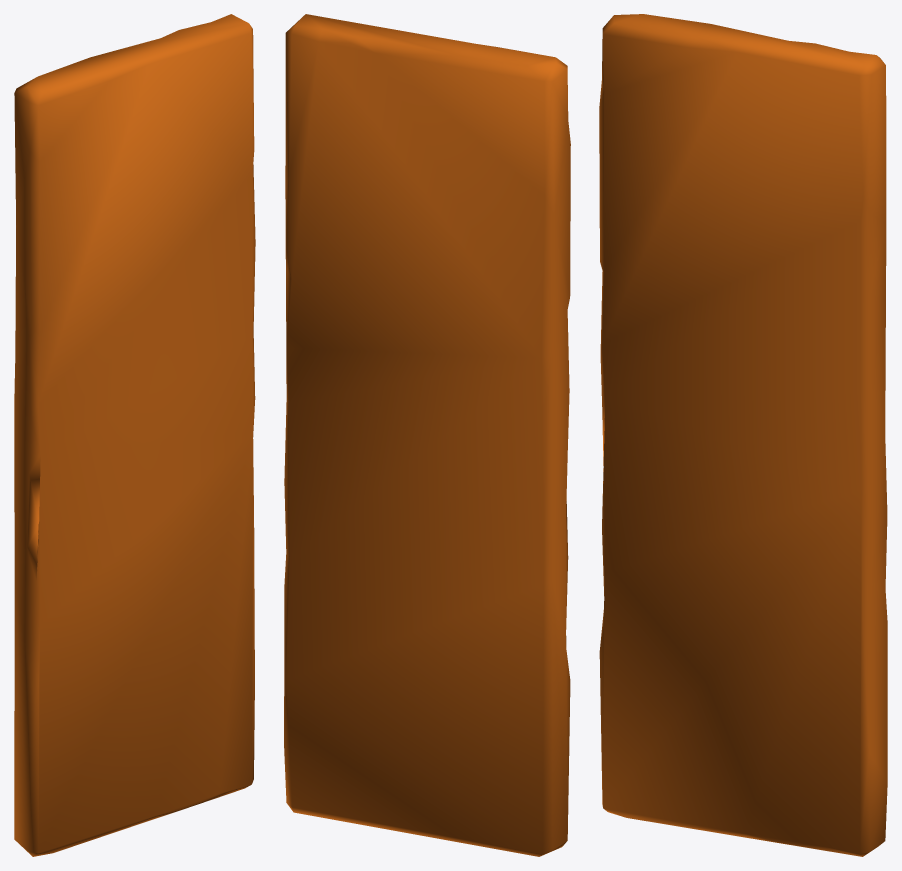
Rendered from TombstonesCoffinWood1.fbx.
3 views of the same model, side by side, from view 1: azimuth 30°, elevation 25°; view 2: azimuth 150°, elevation 25°; view 3: azimuth 330°, elevation 25° (orthographic). The views are drawn at different scales.
Parts seen in each view (by area): view 1: TombstonesCoffinWood1; view 2: TombstonesCoffinWood1; view 3: TombstonesCoffinWood1.
Boxes of the visible parts, x1=… form: TombstonesCoffinWood1: x1=14, y1=14, x2=255, y2=856; TombstonesCoffinWood1: x1=284, y1=14, x2=570, y2=856; TombstonesCoffinWood1: x1=599, y1=14, x2=887, y2=856.
Bounding box in the file's own units: 36.52 × 110 × 10.42.
